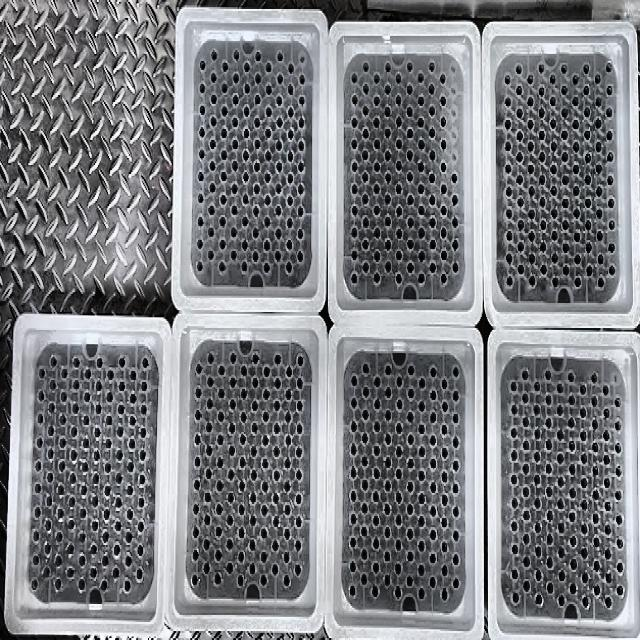vial: (610, 437, 621, 452), (590, 487, 601, 501), (581, 593, 591, 608), (559, 147, 568, 162), (510, 498, 522, 509), (126, 391, 136, 404), (606, 171, 616, 184), (48, 352, 56, 367), (82, 435, 90, 450), (105, 413, 114, 426), (212, 573, 221, 586), (360, 171, 369, 184), (395, 182, 404, 195), (532, 404, 541, 417), (560, 171, 569, 184), (561, 220, 570, 233), (90, 566, 98, 580), (240, 364, 248, 378), (452, 364, 460, 378), (372, 443, 380, 457), (361, 454, 369, 468), (441, 588, 449, 602), (580, 522, 588, 536), (540, 263, 548, 277), (66, 496, 76, 507), (531, 380, 541, 391), (615, 490, 625, 501), (558, 83, 568, 94), (561, 198, 571, 209), (584, 198, 594, 209), (395, 562, 402, 577), (71, 378, 79, 391), (70, 426, 78, 439), (70, 448, 78, 461), (56, 483, 64, 496), (126, 507, 134, 520), (56, 507, 64, 520), (272, 492, 280, 505), (191, 549, 199, 562), (262, 193, 270, 206), (361, 362, 369, 375), (452, 459, 460, 472), (361, 501, 369, 514), (452, 505, 460, 518), (372, 514, 380, 527), (452, 553, 460, 566), (372, 538, 380, 551), (604, 597, 612, 610), (511, 569, 519, 582), (512, 593, 520, 606), (46, 448, 54, 461), (526, 138, 534, 151), (42, 566, 51, 577), (382, 149, 391, 160), (382, 171, 391, 182), (590, 417, 599, 428), (531, 450, 540, 461), (616, 516, 625, 527), (592, 536, 601, 547), (592, 560, 601, 571), (616, 586, 625, 597), (582, 83, 591, 94), (561, 110, 572, 119), (582, 127, 591, 138), (525, 182, 534, 193), (609, 198, 618, 209), (561, 241, 570, 252), (585, 263, 594, 274), (561, 263, 570, 274), (194, 432, 201, 446), (539, 217, 546, 231), (84, 367, 91, 380), (128, 437, 135, 450), (72, 402, 79, 415), (49, 400, 56, 413), (104, 483, 111, 496), (92, 472, 99, 485), (114, 520, 121, 533), (102, 531, 109, 544), (44, 540, 51, 553), (219, 237, 226, 250), (361, 237, 368, 250), (351, 373, 358, 386), (361, 430, 368, 443), (384, 479, 391, 492), (361, 479, 368, 492), (419, 540, 426, 553), (384, 525, 391, 538), (361, 549, 368, 562), (418, 586, 425, 599), (395, 584, 402, 597), (614, 419, 621, 432), (534, 428, 541, 441), (605, 549, 612, 562), (559, 571, 566, 584), (608, 149, 615, 162), (70, 470, 76, 485), (104, 507, 110, 522), (220, 167, 226, 182), (385, 57, 391, 72), (539, 169, 545, 184), (72, 356, 80, 367), (141, 358, 149, 369), (140, 380, 148, 391), (106, 369, 114, 380), (128, 415, 136, 426), (82, 415, 90, 426), (126, 461, 134, 472), (46, 424, 54, 435), (126, 483, 134, 494), (81, 461, 89, 472), (80, 485, 88, 496), (91, 496, 99, 507), (124, 531, 132, 542), (91, 520, 99, 531), (101, 555, 109, 566), (272, 446, 280, 457), (272, 470, 280, 481), (250, 470, 258, 481), (271, 564, 279, 575), (202, 562, 210, 573), (282, 575, 290, 586), (252, 204, 260, 215), (251, 226, 259, 237), (262, 239, 270, 250), (240, 261, 248, 272), (262, 261, 270, 272), (394, 70, 402, 81), (362, 83, 370, 94), (372, 94, 380, 105), (361, 105, 369, 116), (361, 127, 369, 138), (440, 226, 448, 237), (361, 386, 369, 397), (372, 468, 380, 479), (406, 459, 414, 470), (406, 481, 414, 492), (382, 503, 390, 514), (406, 529, 414, 540), (406, 551, 414, 562), (360, 527, 368, 538), (452, 577, 460, 588), (371, 586, 379, 597), (521, 369, 529, 380), (602, 430, 610, 441), (510, 428, 518, 439), (591, 441, 599, 452), (601, 452, 609, 463), (580, 452, 588, 463), (580, 479, 588, 490), (556, 476, 564, 487), (522, 487, 530, 498), (522, 509, 530, 520), (510, 520, 518, 531), (616, 538, 624, 549), (580, 549, 588, 560), (511, 544, 519, 555), (570, 560, 578, 571), (592, 586, 600, 597), (534, 571, 542, 582), (546, 582, 554, 593), (560, 61, 568, 72), (606, 108, 614, 119), (606, 130, 614, 141), (550, 162, 558, 173), (584, 241, 592, 252), (114, 544, 120, 558), (55, 577, 61, 591), (418, 94, 424, 108), (418, 443, 424, 457), (385, 454, 391, 468), (604, 476, 610, 490), (558, 498, 564, 512), (575, 274, 581, 288), (582, 173, 591, 182), (105, 389, 111, 402), (95, 402, 101, 415), (94, 448, 100, 461), (59, 459, 65, 472), (115, 496, 121, 509), (138, 520, 144, 533), (45, 518, 51, 531), (79, 553, 85, 566), (274, 422, 280, 435), (255, 92, 261, 105), (418, 70, 424, 83), (430, 215, 436, 228), (385, 362, 391, 375), (419, 492, 425, 505), (408, 503, 414, 516), (556, 380, 562, 393), (510, 448, 516, 461), (524, 580, 530, 593), (118, 380, 125, 391), (38, 367, 45, 378), (84, 391, 91, 402), (94, 380, 101, 391), (139, 426, 146, 437), (94, 426, 101, 437), (59, 437, 66, 448), (32, 531, 39, 542), (55, 555, 62, 566), (124, 577, 131, 588), (112, 566, 119, 577), (252, 353, 259, 364), (218, 364, 225, 375), (252, 378, 259, 389), (251, 400, 258, 411), (194, 411, 201, 422), (262, 411, 269, 422), (239, 432, 246, 443), (262, 459, 269, 470), (239, 457, 246, 468), (261, 505, 268, 516), (238, 527, 245, 538), (192, 527, 199, 538), (214, 551, 221, 562), (199, 59, 206, 70), (232, 94, 239, 105), (221, 125, 228, 136), (241, 215, 248, 226), (241, 239, 248, 250), (252, 250, 259, 261), (285, 261, 292, 272), (362, 61, 369, 72), (384, 127, 391, 138), (441, 182, 448, 193), (452, 193, 459, 204), (351, 204, 358, 215), (384, 215, 391, 226), (351, 226, 358, 237), (418, 226, 425, 237), (452, 239, 459, 250), (351, 250, 358, 261), (395, 246, 402, 257), (452, 261, 459, 272), (362, 261, 369, 272), (351, 272, 358, 283), (395, 272, 402, 283), (418, 272, 425, 283), (395, 375, 402, 386), (441, 378, 448, 389), (452, 391, 459, 402), (351, 397, 358, 408), (441, 402, 448, 413), (452, 413, 459, 424), (441, 424, 448, 435), (395, 443, 402, 454), (351, 468, 358, 479), (395, 468, 402, 479), (441, 472, 448, 483), (452, 483, 459, 494), (395, 492, 402, 503), (441, 494, 448, 505), (395, 516, 402, 527), (452, 531, 459, 542), (441, 542, 448, 553), (372, 562, 379, 573), (441, 564, 448, 575), (429, 577, 436, 588), (349, 586, 356, 597), (568, 371, 575, 382), (591, 371, 598, 382), (602, 384, 609, 395), (522, 393, 529, 404), (589, 395, 596, 406), (615, 395, 622, 406), (602, 406, 609, 417), (555, 404, 562, 415), (545, 417, 552, 428), (579, 430, 586, 441), (555, 428, 562, 439), (522, 439, 529, 450), (522, 463, 529, 474), (615, 465, 622, 476), (569, 487, 576, 498), (534, 498, 541, 509), (522, 533, 529, 544), (558, 549, 565, 560), (535, 544, 542, 555), (581, 573, 588, 584), (595, 72, 602, 83), (572, 119, 579, 130), (585, 151, 592, 162), (539, 151, 546, 162), (505, 162, 512, 173), (572, 184, 579, 195), (505, 187, 512, 198), (539, 195, 546, 206), (609, 220, 616, 231), (585, 220, 592, 231), (551, 228, 558, 239), (551, 252, 558, 263), (505, 252, 512, 263), (190, 575, 198, 584), (220, 83, 228, 92), (242, 83, 250, 92), (384, 83, 392, 92), (361, 149, 369, 158), (361, 195, 369, 204), (361, 217, 369, 226), (452, 437, 460, 446), (372, 492, 380, 501), (591, 465, 599, 474), (580, 501, 589, 509), (591, 514, 600, 522), (616, 562, 624, 571), (394, 422, 401, 432), (119, 356, 125, 367), (130, 367, 136, 378), (38, 391, 44, 402), (118, 404, 124, 415), (118, 426, 124, 437), (38, 413, 44, 424), (105, 437, 111, 448), (116, 450, 122, 461), (36, 437, 42, 448), (105, 461, 111, 472), (139, 474, 145, 485), (116, 474, 122, 485), (35, 459, 41, 470), (35, 483, 41, 494), (138, 496, 144, 507), (80, 507, 86, 518), (68, 518, 74, 529), (34, 507, 40, 518), (90, 542, 96, 553), (66, 542, 72, 553), (136, 569, 142, 580), (30, 577, 36, 588), (286, 367, 292, 378), (275, 378, 281, 389), (296, 378, 302, 389), (285, 389, 291, 400), (219, 386, 225, 397), (229, 400, 235, 411), (195, 386, 201, 397), (218, 411, 224, 422), (296, 400, 302, 411), (285, 435, 291, 446), (216, 457, 222, 468), (194, 457, 200, 468), (239, 481, 245, 492), (194, 479, 200, 490), (216, 503, 222, 514), (205, 514, 211, 525), (249, 514, 255, 525), (284, 529, 290, 540), (249, 538, 255, 549), (238, 551, 244, 562), (226, 562, 232, 573), (249, 562, 255, 573), (244, 61, 250, 72), (278, 72, 284, 83), (255, 72, 261, 83), (266, 83, 272, 94), (210, 92, 216, 103), (210, 114, 216, 125), (254, 116, 260, 127), (232, 116, 238, 127), (232, 138, 238, 149), (232, 160, 238, 171), (242, 169, 248, 180), (254, 182, 260, 193), (298, 182, 304, 193), (209, 182, 215, 193), (286, 217, 292, 228), (264, 215, 270, 226), (219, 215, 225, 226), (198, 215, 204, 226), (275, 226, 281, 237), (298, 228, 304, 239), (286, 239, 292, 250), (196, 261, 202, 272), (429, 59, 435, 70), (440, 72, 446, 83), (374, 72, 380, 83), (406, 83, 412, 94), (440, 94, 446, 105), (384, 105, 390, 116), (418, 116, 424, 127), (429, 127, 435, 138), (440, 138, 446, 149), (418, 136, 424, 147), (406, 127, 412, 138), (429, 149, 435, 160), (374, 116, 380, 127), (374, 138, 380, 149), (418, 160, 424, 171), (429, 171, 435, 182), (374, 182, 380, 193), (418, 182, 424, 193), (406, 193, 412, 204), (384, 193, 390, 204), (374, 204, 380, 215), (430, 239, 436, 250), (385, 239, 391, 250), (374, 250, 380, 261), (408, 261, 414, 272), (384, 261, 390, 272), (374, 272, 380, 283), (374, 375, 380, 386), (408, 364, 414, 375), (418, 375, 424, 386), (430, 367, 436, 378), (430, 389, 436, 400), (408, 389, 414, 400), (374, 400, 380, 411), (384, 408, 390, 419), (406, 411, 412, 422), (430, 411, 436, 422), (418, 424, 424, 435), (430, 435, 436, 446), (350, 443, 356, 454), (419, 470, 425, 481), (430, 483, 436, 494), (350, 490, 356, 501), (430, 505, 436, 516), (350, 514, 356, 525), (418, 514, 424, 525), (430, 529, 436, 540), (384, 551, 390, 562), (350, 562, 356, 573), (406, 575, 412, 586), (384, 575, 390, 586), (360, 573, 366, 584), (545, 369, 551, 380), (546, 393, 552, 404), (569, 393, 575, 404), (580, 406, 586, 417), (558, 452, 564, 463), (546, 463, 552, 474), (510, 474, 516, 485), (546, 487, 552, 498), (605, 501, 611, 512), (546, 509, 552, 520), (604, 525, 610, 536), (556, 522, 562, 533), (546, 533, 552, 544), (570, 536, 576, 547), (546, 558, 552, 569), (606, 571, 612, 582), (570, 584, 576, 595), (559, 595, 565, 606), (536, 595, 542, 606), (526, 72, 532, 83), (505, 72, 511, 83), (550, 72, 556, 83), (596, 97, 602, 108), (528, 97, 534, 108), (516, 105, 522, 116), (538, 105, 544, 116), (550, 119, 556, 130), (516, 130, 522, 141), (505, 119, 511, 130), (516, 151, 522, 162), (528, 162, 534, 173), (550, 184, 556, 195), (516, 173, 522, 184), (529, 209, 535, 220), (518, 220, 524, 231), (596, 228, 602, 239), (506, 274, 512, 285), (529, 274, 535, 285), (599, 277, 605, 288), (255, 48, 260, 61), (262, 367, 270, 375), (361, 411, 369, 419), (582, 64, 590, 72), (582, 108, 590, 116), (560, 130, 568, 138), (550, 209, 558, 217), (61, 369, 68, 378), (59, 415, 66, 424), (45, 496, 52, 505), (32, 555, 39, 564), (261, 483, 268, 492), (249, 494, 256, 503), (192, 505, 199, 514), (272, 516, 279, 525), (261, 529, 268, 538), (271, 540, 278, 549), (232, 72, 239, 81), (242, 105, 249, 114), (351, 94, 358, 103), (351, 162, 358, 171), (451, 173, 458, 182), (351, 184, 358, 193), (451, 217, 458, 226), (418, 250, 425, 259), (384, 386, 391, 395), (441, 448, 448, 457), (441, 518, 448, 527), (522, 417, 529, 426), (374, 422, 380, 432), (569, 512, 575, 522), (550, 141, 556, 151), (574, 231, 580, 241), (101, 580, 108, 588), (262, 435, 269, 443), (504, 97, 511, 105), (552, 277, 559, 285), (141, 404, 146, 415), (140, 450, 145, 461), (264, 389, 269, 400), (229, 470, 234, 481), (285, 481, 290, 492), (296, 494, 301, 505), (205, 492, 210, 503), (296, 516, 301, 527), (261, 551, 266, 562), (211, 48, 216, 59), (234, 48, 239, 59), (289, 61, 294, 72), (299, 94, 304, 105), (299, 116, 304, 127), (210, 138, 215, 149), (255, 138, 260, 149), (276, 160, 281, 171), (255, 160, 260, 171), (231, 182, 236, 193), (231, 204, 236, 215), (209, 226, 214, 237), (219, 261, 224, 272), (351, 72, 356, 83), (429, 83, 434, 94), (396, 92, 401, 103), (406, 105, 411, 116), (374, 160, 379, 171), (396, 204, 401, 215), (419, 204, 424, 215), (441, 204, 446, 215), (441, 248, 446, 259), (430, 261, 435, 272), (441, 272, 446, 283), (430, 553, 435, 564), (546, 439, 551, 450), (535, 474, 540, 485), (239, 505, 244, 516), (516, 64, 521, 75), (574, 162, 579, 173), (575, 252, 580, 263), (49, 380, 55, 389), (48, 472, 54, 481), (125, 555, 131, 564), (56, 531, 62, 540), (79, 533, 85, 542), (208, 353, 214, 362), (230, 353, 236, 362), (195, 364, 201, 373), (240, 413, 246, 422), (285, 413, 291, 422), (250, 448, 256, 457), (284, 459, 290, 468), (216, 481, 222, 490), (228, 494, 234, 503), (215, 527, 221, 536), (226, 516, 232, 525), (295, 540, 301, 549), (284, 553, 290, 562), (260, 575, 266, 584), (210, 72, 216, 81), (220, 105, 226, 114), (265, 105, 271, 114), (220, 149, 226, 158), (288, 173, 294, 182), (275, 206, 281, 215), (230, 228, 236, 237), (429, 105, 435, 114), (396, 138, 402, 147), (395, 160, 401, 169), (429, 195, 435, 204), (374, 228, 380, 237), (408, 239, 414, 248), (419, 402, 425, 411), (430, 459, 436, 468), (395, 540, 401, 549), (350, 538, 356, 547), (510, 382, 516, 391), (569, 417, 575, 426), (569, 441, 575, 450), (569, 465, 575, 474), (535, 522, 541, 531), (518, 241, 524, 250), (540, 241, 546, 250), (206, 422, 211, 432), (574, 141, 579, 151), (596, 141, 601, 151), (138, 547, 144, 555), (298, 356, 304, 364), (230, 378, 236, 386), (206, 400, 212, 408), (296, 424, 302, 432), (229, 424, 235, 432), (206, 446, 212, 454), (229, 446, 235, 454), (276, 97, 282, 105), (276, 141, 282, 149), (396, 400, 402, 408), (385, 435, 391, 443), (408, 435, 414, 443), (524, 558, 530, 566), (516, 86, 522, 94), (572, 75, 578, 83), (572, 97, 578, 105), (595, 119, 601, 127), (539, 130, 545, 138), (505, 141, 511, 149), (596, 187, 602, 195), (518, 198, 524, 206), (596, 209, 602, 217), (574, 209, 580, 217), (505, 209, 511, 217), (506, 231, 512, 239), (598, 255, 604, 263), (518, 266, 524, 274), (61, 393, 66, 402), (296, 448, 301, 457), (206, 470, 211, 479), (285, 505, 290, 514), (204, 540, 209, 549), (295, 564, 300, 573), (199, 83, 204, 92), (199, 127, 204, 136), (244, 127, 249, 136), (210, 160, 215, 169), (241, 149, 246, 158), (299, 162, 304, 171), (265, 149, 270, 158), (265, 171, 270, 180), (276, 184, 281, 193), (241, 193, 246, 202), (220, 193, 225, 202), (196, 239, 201, 248), (231, 250, 236, 259), (275, 250, 280, 259), (441, 116, 446, 125), (441, 162, 446, 171), (606, 61, 611, 70), (596, 162, 601, 171), (609, 241, 614, 250), (610, 263, 615, 272), (529, 252, 534, 261), (98, 356, 102, 367), (68, 566, 72, 577), (238, 575, 242, 586), (224, 61, 228, 72), (278, 50, 282, 61), (288, 83, 292, 94), (288, 105, 292, 116), (278, 116, 282, 127), (288, 127, 292, 138), (538, 61, 542, 72), (608, 83, 612, 94), (528, 119, 532, 130), (296, 472, 302, 479), (351, 141, 358, 147), (406, 151, 412, 158), (510, 404, 516, 411), (538, 86, 545, 92), (79, 580, 84, 588), (275, 356, 280, 364), (274, 400, 279, 408), (299, 75, 304, 83), (299, 141, 304, 149), (351, 119, 356, 127), (351, 422, 356, 430), (550, 97, 555, 105), (252, 424, 258, 430), (228, 540, 232, 549), (266, 125, 270, 134), (288, 151, 292, 160), (288, 195, 292, 204), (298, 206, 302, 215), (208, 250, 212, 259), (298, 250, 302, 259), (408, 61, 412, 70), (396, 119, 402, 125), (408, 171, 412, 180), (266, 59, 271, 66), (199, 105, 204, 112), (580, 384, 585, 391), (208, 378, 212, 386), (218, 435, 222, 443), (199, 171, 202, 180), (199, 193, 202, 202), (240, 391, 246, 395), (529, 231, 532, 239), (209, 206, 212, 213), (408, 217, 411, 224), (398, 228, 401, 235), (419, 564, 422, 571), (199, 149, 202, 154)
